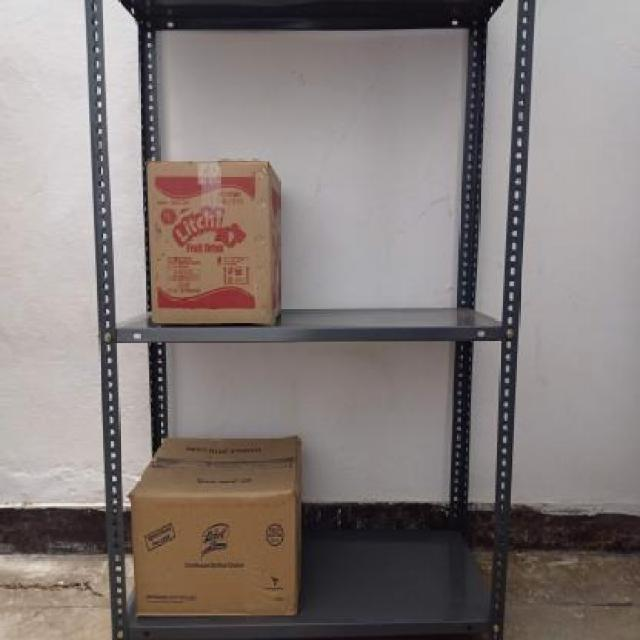box: (146, 160, 277, 332), (130, 493, 298, 616)
